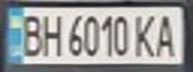0: (112, 11, 133, 57), (81, 11, 100, 57)
1: (96, 11, 115, 56)
6: (63, 11, 84, 57)
A: (151, 10, 184, 58)
B: (15, 11, 45, 57)
H: (39, 10, 66, 57)
K: (133, 11, 160, 58)
